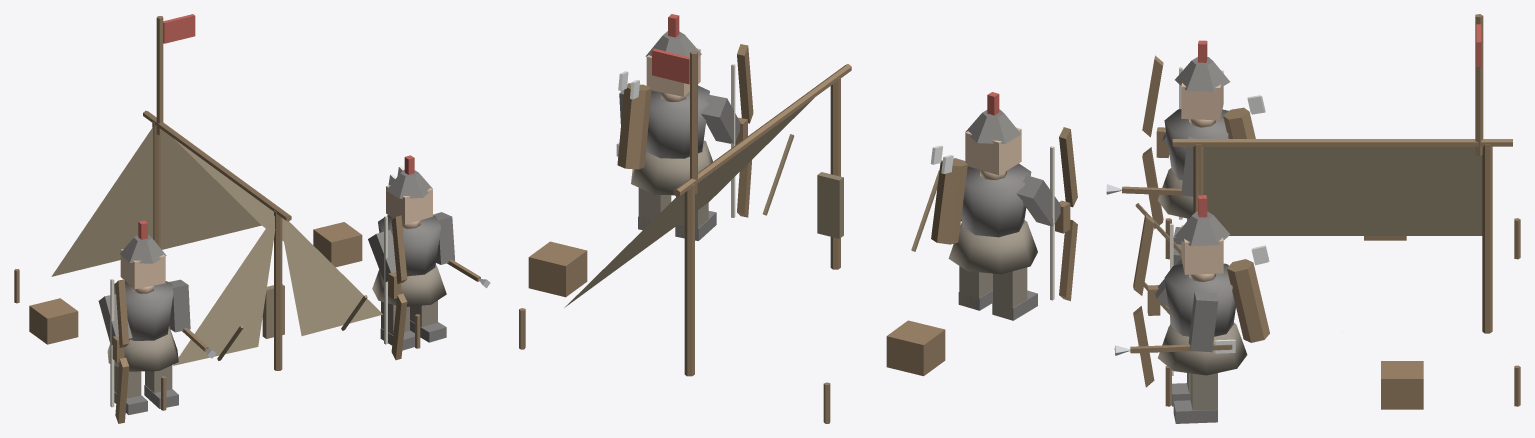
Rendered from troop-supply.glb.
The picture shows the model from 3 angles, left to right: view 1: azimuth 30°, elevation 25°; view 2: azimuth 150°, elevation 25°; view 3: azimuth 270°, elevation 25°; orthographic projection. The views are drawn at different scales.
Visible parts, largest first — view 1: supply_tent_back, supply_tent_front_flap_left, supply_tent_front_flap_right, camp_archer_l_body, camp_archer_r_body, supply_camp_crate_0, supply_camp_crate_1, camp_archer_l_skirt, camp_archer_r_skirt, supply_tent_pole_front, supply_tent_ridge_pole, supply_tent_canvas_right (+23 smaller); view 2: supply_tent_canvas_right, camp_archer_l_body, camp_archer_l_skirt, camp_archer_r_body, supply_camp_crate_0, supply_camp_crate_1, camp_archer_l_quiver, camp_archer_r_quiver, camp_archer_r_skirt, supply_tent_pole_back, supply_tent_ridge_pole, camp_archer_l_head (+18 smaller); view 3: supply_tent_canvas_left, camp_archer_r_body, supply_tent_ridge_pole, camp_archer_r_quiver, camp_archer_r_skirt, supply_camp_crate_1, supply_tent_pole_back, camp_archer_l_body, camp_archer_r_arm_r, camp_archer_l_head, camp_archer_r_head, camp_archer_r_helmet (+15 smaller).
Part boxes in pixels (x1=…): supply_tent_back: x1=51, y1=127, x2=261, y2=276; supply_tent_front_flap_left: x1=173, y1=216, x2=275, y2=365; supply_tent_front_flap_right: x1=282, y1=218, x2=382, y2=335; camp_archer_l_body: x1=114, y1=281, x2=173, y2=340; camp_archer_r_body: x1=378, y1=215, x2=441, y2=276; supply_camp_crate_0: x1=29, y1=298, x2=78, y2=344; supply_camp_crate_1: x1=313, y1=222, x2=362, y2=267; camp_archer_l_skirt: x1=107, y1=326, x2=178, y2=371; camp_archer_r_skirt: x1=372, y1=264, x2=446, y2=306; supply_tent_pole_front: x1=274, y1=210, x2=282, y2=370; supply_tent_ridge_pole: x1=143, y1=110, x2=291, y2=221; supply_tent_canvas_right: x1=174, y1=139, x2=283, y2=241; supply_tent_canvas_right: x1=564, y1=98, x2=813, y2=307; camp_archer_l_body: x1=961, y1=163, x2=1031, y2=237; camp_archer_l_skirt: x1=948, y1=220, x2=1037, y2=274; camp_archer_r_body: x1=646, y1=85, x2=709, y2=158; supply_camp_crate_0: x1=886, y1=320, x2=945, y2=376; supply_camp_crate_1: x1=528, y1=241, x2=587, y2=297; camp_archer_l_quiver: x1=930, y1=145, x2=967, y2=244; camp_archer_r_quiver: x1=617, y1=71, x2=651, y2=169; camp_archer_r_skirt: x1=631, y1=140, x2=712, y2=195; supply_tent_pole_back: x1=684, y1=184, x2=694, y2=376; supply_tent_ridge_pole: x1=673, y1=64, x2=851, y2=196; camp_archer_l_head: x1=965, y1=127, x2=1021, y2=175; supply_tent_canvas_left: x1=1203, y1=146, x2=1482, y2=235; camp_archer_r_body: x1=1164, y1=263, x2=1235, y2=336; supply_tent_ridge_pole: x1=1172, y1=139, x2=1512, y2=146; camp_archer_r_quiver: x1=1227, y1=245, x2=1269, y2=342; camp_archer_r_skirt: x1=1158, y1=322, x2=1247, y2=375; supply_camp_crate_1: x1=1381, y1=361, x2=1423, y2=409; supply_tent_pole_back: x1=1482, y1=144, x2=1492, y2=333; camp_archer_l_body: x1=1164, y1=109, x2=1228, y2=180; camp_archer_r_arm_r: x1=1188, y1=291, x2=1218, y2=352; camp_archer_l_head: x1=1181, y1=70, x2=1223, y2=120; camp_archer_r_head: x1=1181, y1=225, x2=1223, y2=274; camp_archer_r_helmet: x1=1175, y1=211, x2=1230, y2=246.
Size of the model in its own units: 0.5756 by 0.41 by 0.4871.
